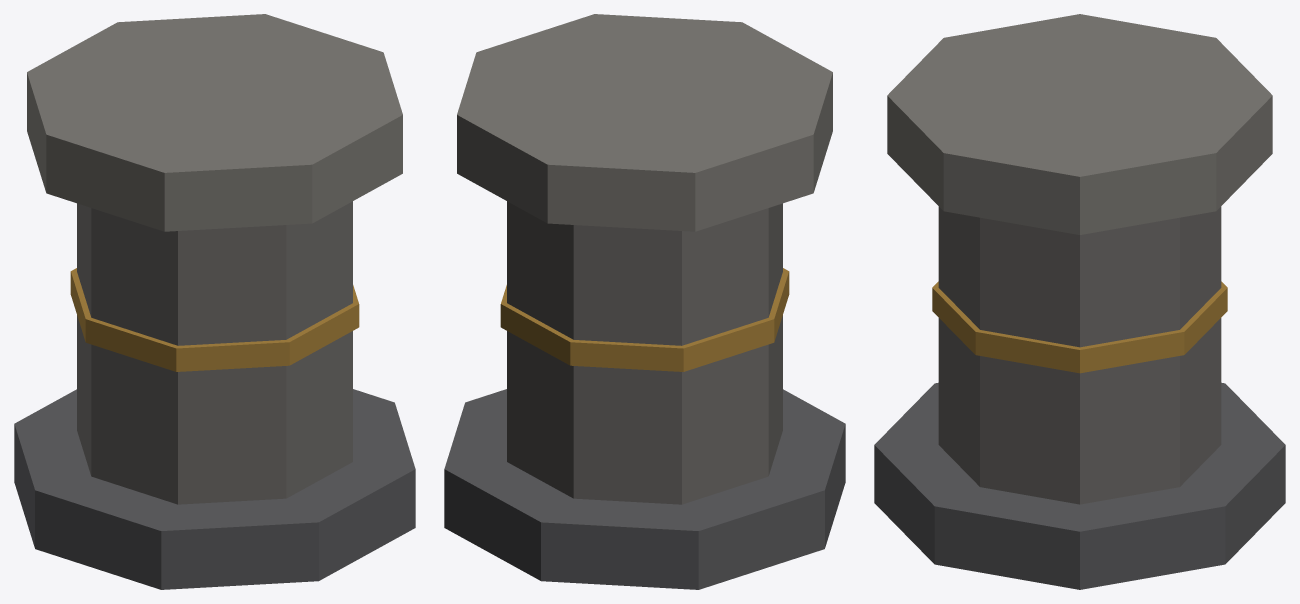
Rendered from ceremonial_pedestal.obj.
The picture shows the model from 3 angles, left to right: view 1: azimuth 30°, elevation 25°; view 2: azimuth 150°, elevation 25°; view 3: azimuth 270°, elevation 25°; orthographic projection.
Parts seen in each view (by area): view 1: ceremonial_pedestal; view 2: ceremonial_pedestal; view 3: ceremonial_pedestal.
Boxes of the visible parts, <box> form: ceremonial_pedestal: <box>14,14,415,589</box>; ceremonial_pedestal: <box>444,14,845,589</box>; ceremonial_pedestal: <box>874,14,1285,589</box>.
Size of the model in its own units: 0.64 by 0.7 by 0.64.
